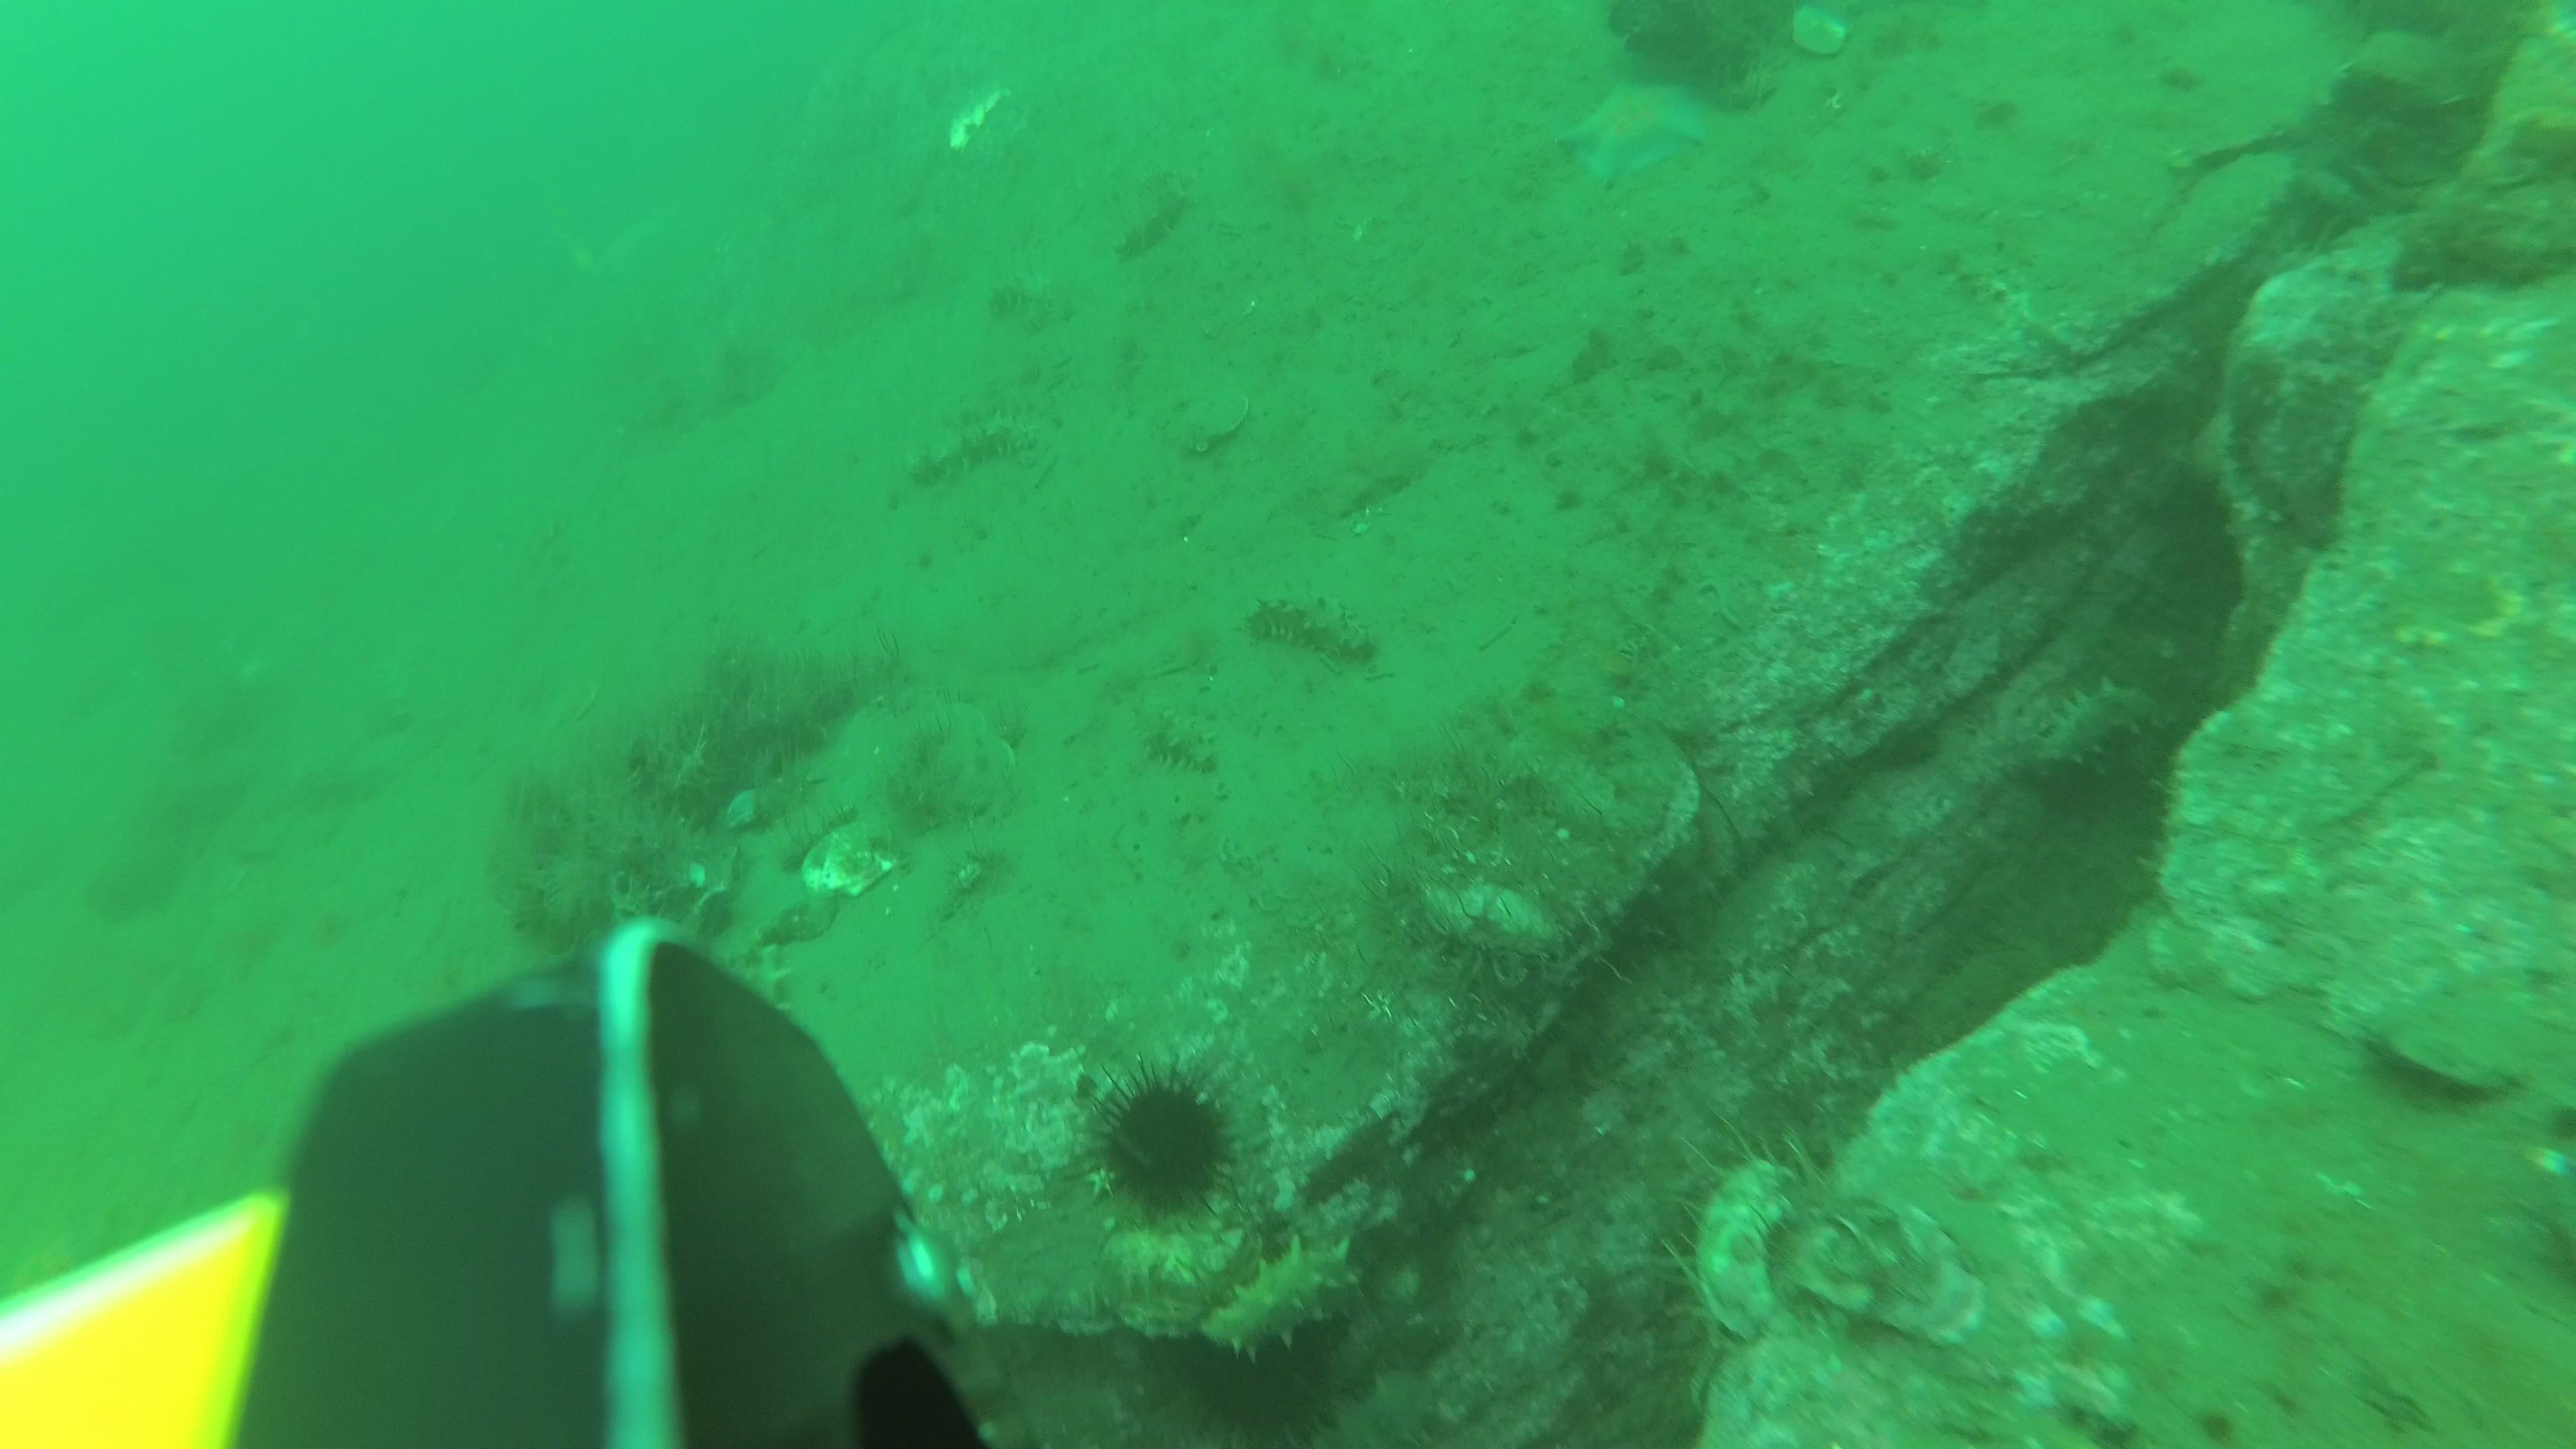echinus: (1079, 1058, 1240, 1235), (1191, 1313, 1361, 1449)
holothurian: (1205, 1237, 1369, 1355), (2038, 674, 2173, 793), (724, 934, 787, 1093), (1249, 589, 1378, 665), (913, 416, 1040, 487), (1116, 179, 1191, 260), (1141, 709, 1215, 780), (985, 276, 1069, 336)
scallop: (800, 821, 897, 901), (929, 729, 1012, 816), (902, 702, 984, 777), (1168, 384, 1251, 455), (1787, 5, 1845, 55)
starfish: (1571, 78, 1706, 189), (5, 1212, 97, 1339)
